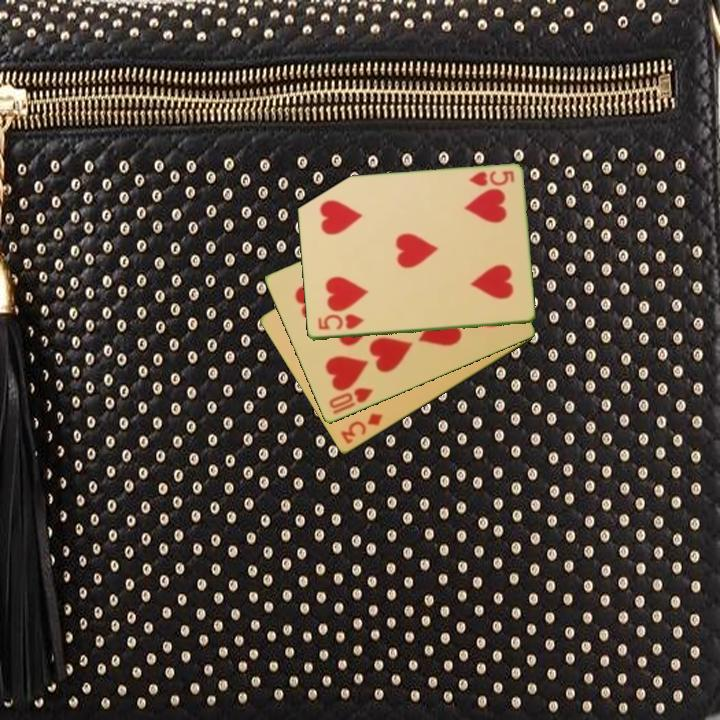10h: (325, 384, 376, 418)
3d: (337, 410, 385, 447)
5h: (465, 167, 517, 190), (314, 311, 366, 333)
